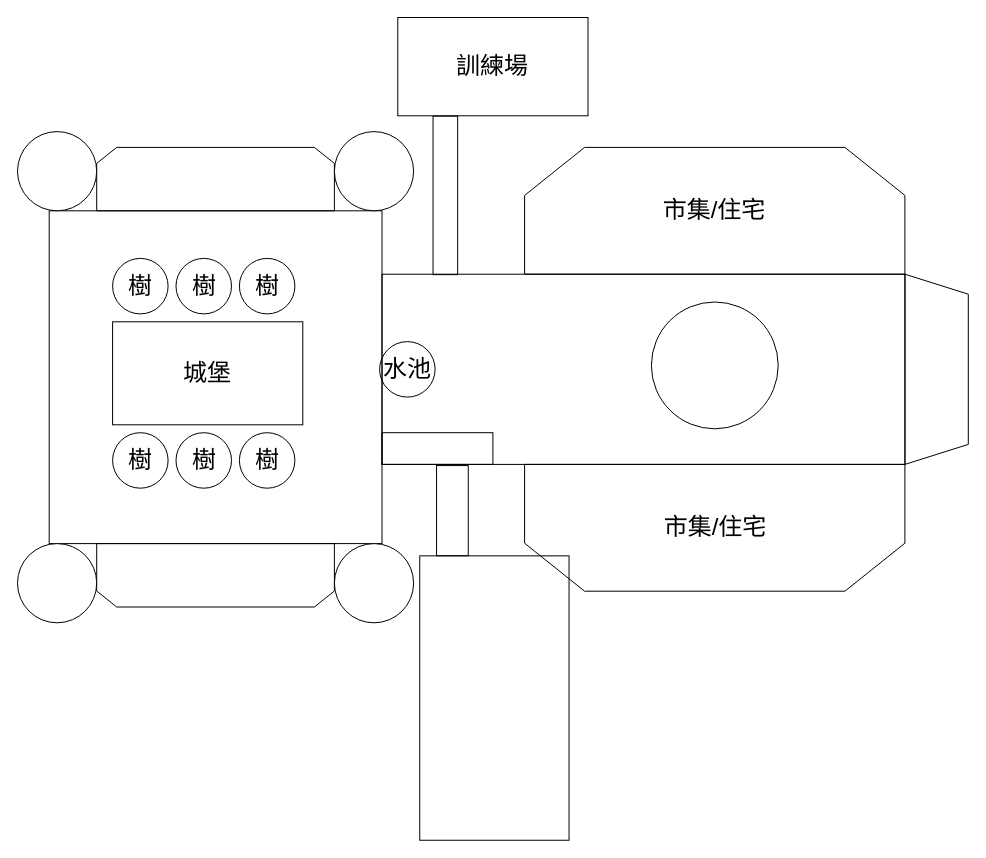
This 986x858 diagram has some shape labels left out. The shapes that lost their labels are listed below. From the top down, each one's centre as x and y in pixels, then its label:
point 714,365: 死鬥場
point 437,448: 地鐵
point 494,697: 學校
